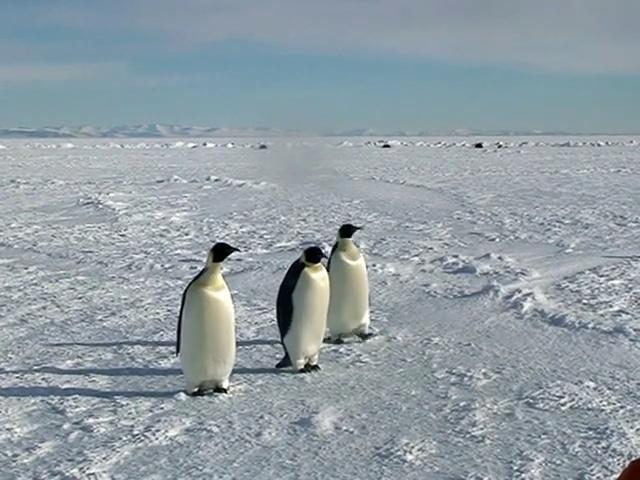animal: (327, 225, 374, 344)
